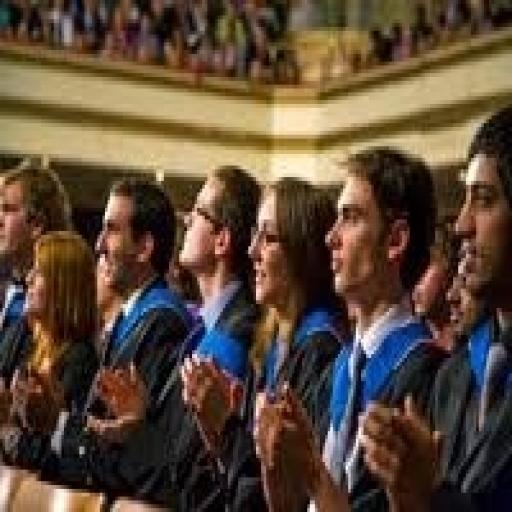clapping: (0, 107, 509, 508)
